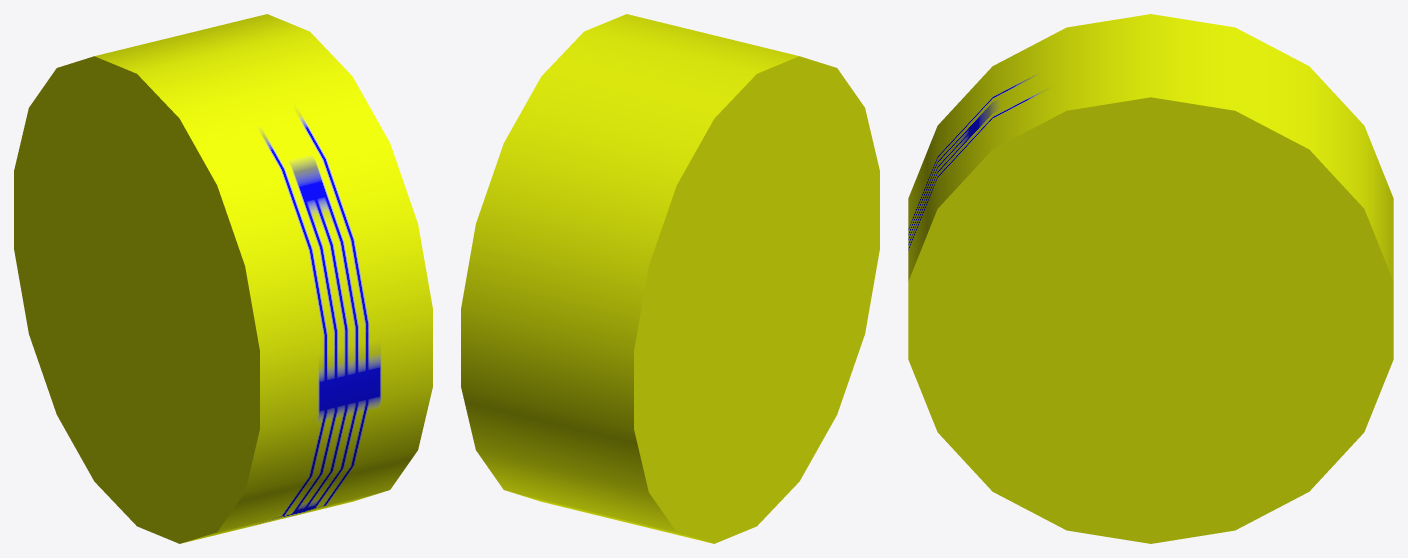
Rendered from wheel.FBX.
3 views of the same model, side by side, from view 1: azimuth 30°, elevation 25°; view 2: azimuth 150°, elevation 25°; view 3: azimuth 270°, elevation 25° (orthographic).
Parts seen in each view (by area): view 1: Cylinder001; view 2: Cylinder001; view 3: Cylinder001.
Boxes of the visible parts, x1=… form: Cylinder001: x1=14, y1=14, x2=432, y2=543; Cylinder001: x1=461, y1=14, x2=879, y2=543; Cylinder001: x1=908, y1=14, x2=1393, y2=543.
Size of the model in its own units: 0.4 by 1 by 0.9848.
1 material, 1 textured.
